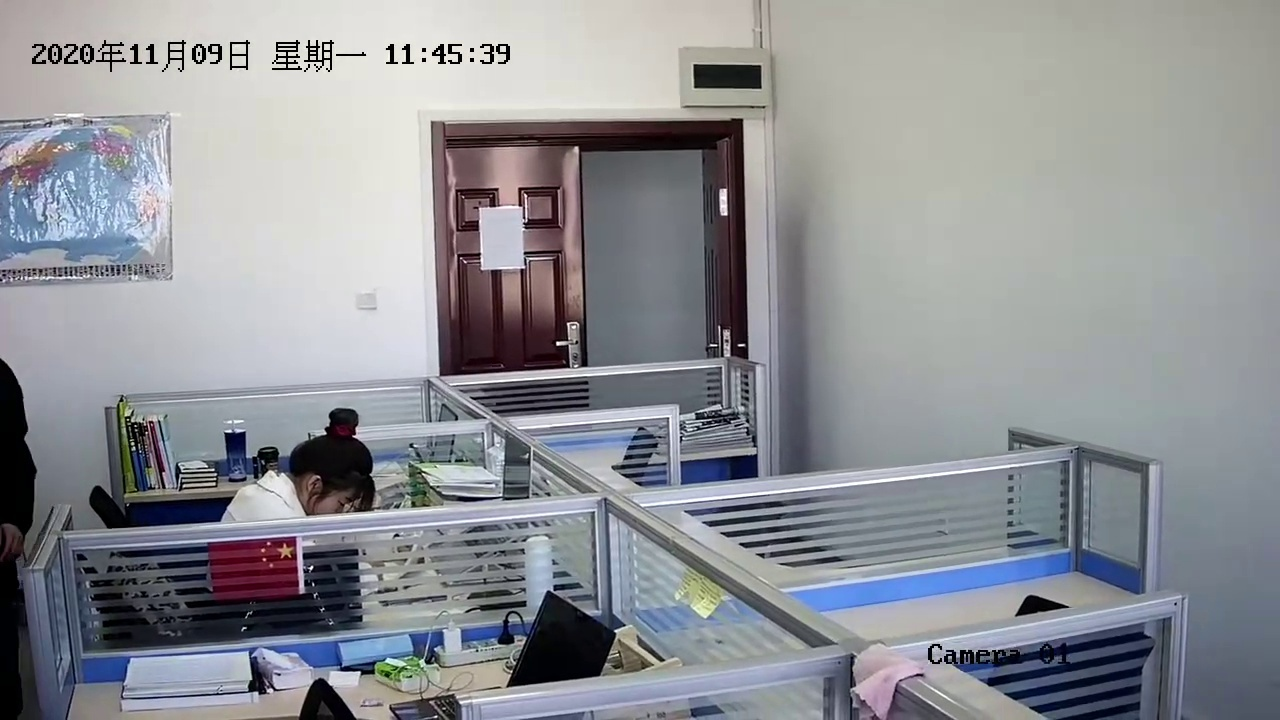mask: (292, 427, 377, 513)
